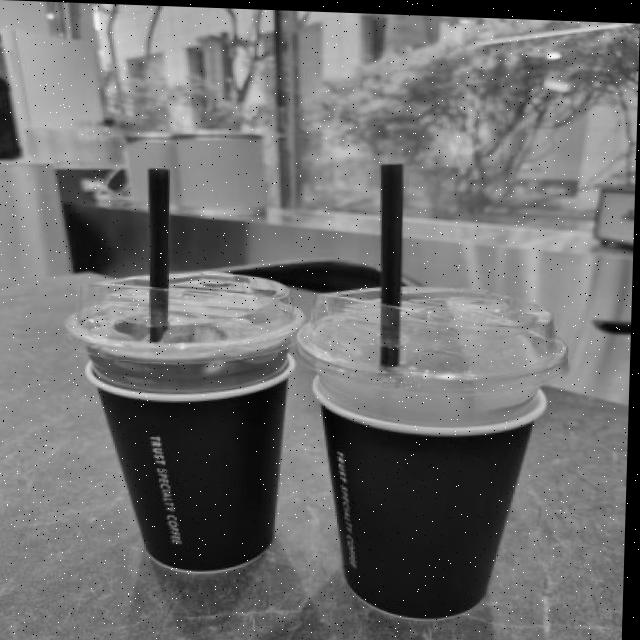cup: (305, 286, 581, 622), (72, 265, 309, 579)
